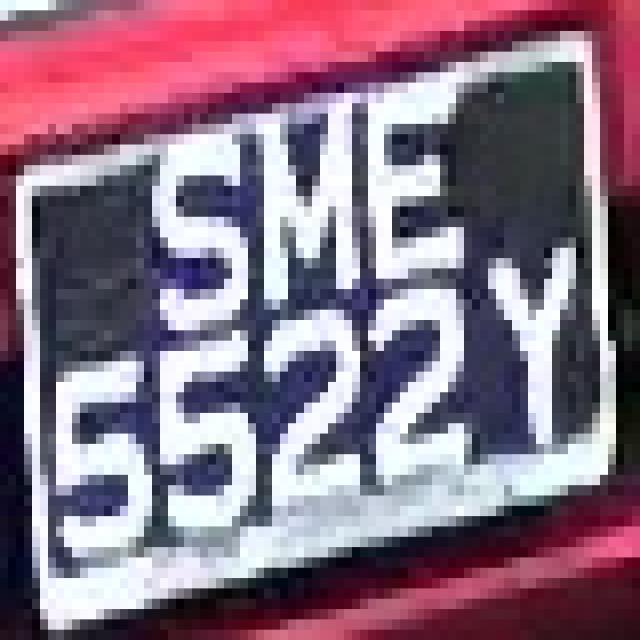2: (336, 258, 480, 527), (240, 289, 384, 526)
5: (32, 341, 160, 588), (144, 330, 264, 547)
E: (344, 72, 472, 279)
M: (232, 93, 368, 341)
S: (128, 103, 264, 341)
Y: (448, 206, 600, 464)
